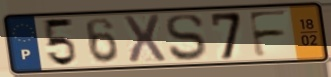5: (39, 17, 79, 68)
6: (84, 16, 121, 65)
7: (209, 11, 244, 62)
F: (245, 8, 290, 60)
S: (164, 12, 208, 63)
X: (120, 13, 169, 66)
